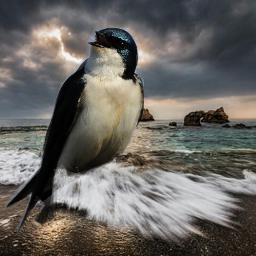Swallow: (5, 27, 144, 235)
